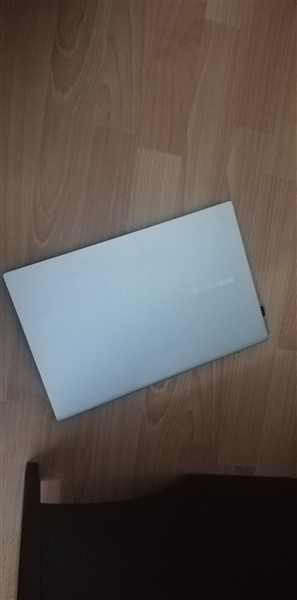laptop: (1, 200, 273, 422)
